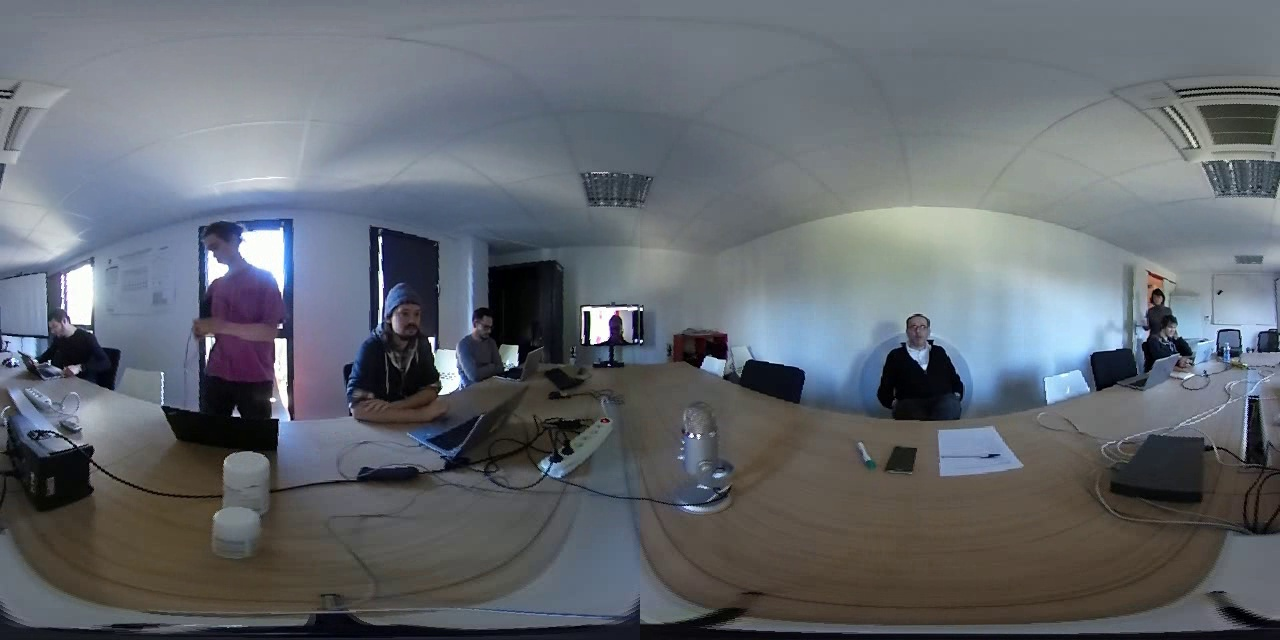person: (167, 200, 304, 403), (340, 259, 443, 401), (873, 292, 977, 422), (34, 289, 101, 376), (452, 295, 520, 379), (1150, 312, 1195, 365), (585, 303, 638, 346), (1146, 270, 1177, 321)
